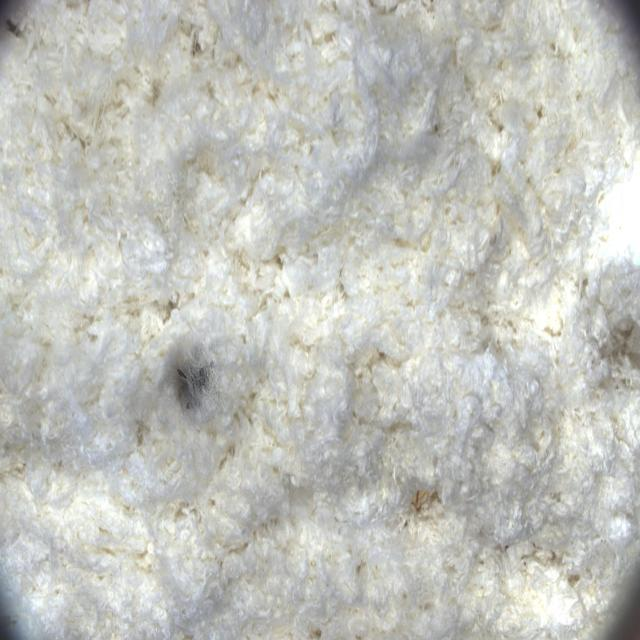dust: (124, 317, 243, 435)
